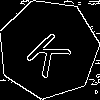K: (23, 24, 79, 80)
